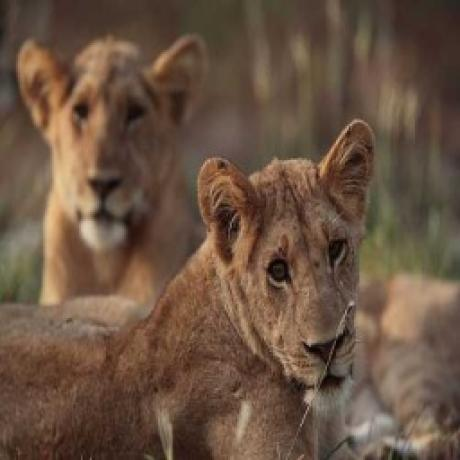Lion: (0, 116, 381, 460), (12, 31, 206, 298)
